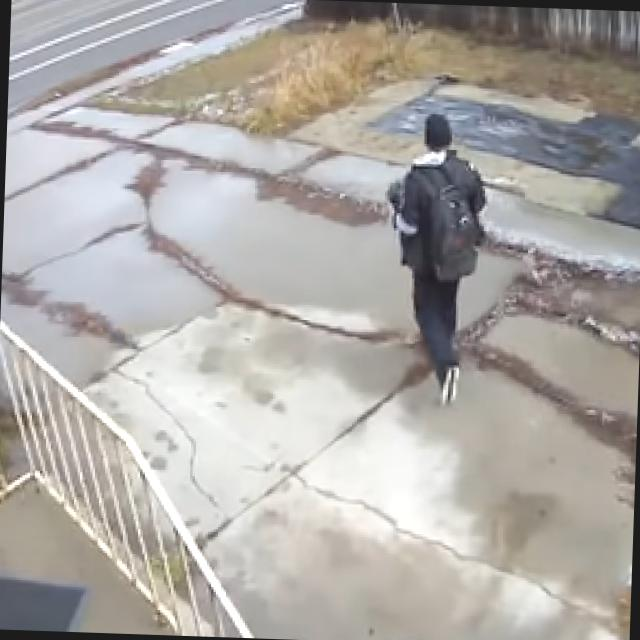person: (382, 112, 490, 408)
